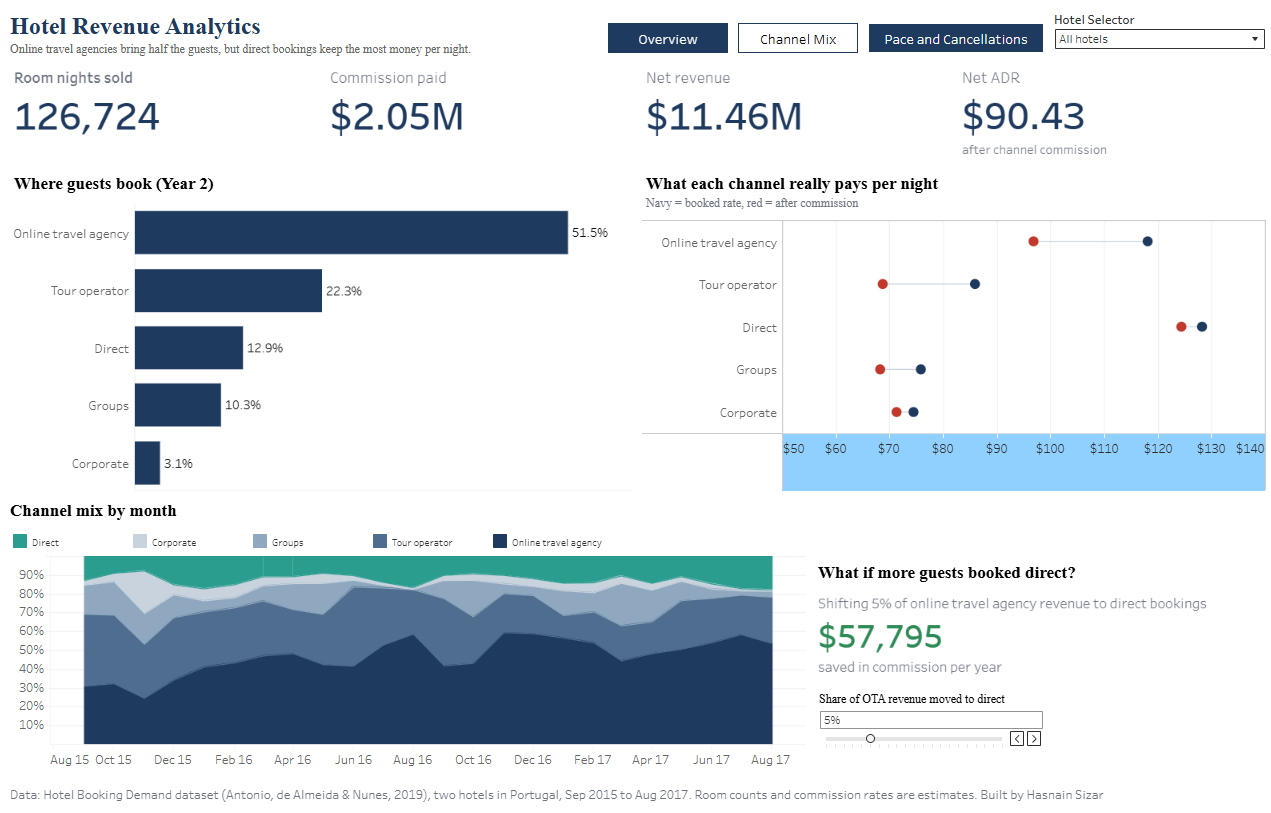

The page's visual inventory and layout, read from the dashboard file:
{"tool":"tableau","page":{"name":"Channel Mix","canvas":[1280,820],"ordinal":0},"visuals":[{"type":"text","box":[8,8,1044,56]},{"type":"parameter","param":"[Parameters].[Parameter 3123986986201088]","box":[1052,8,220,56]},{"type":"dashboard-object","box":[610,25,120,30]},{"type":"dashboard-object","box":[740,25,120,30]},{"type":"dashboard-object","box":[870,25,176,30]},{"type":"worksheet","title":"KPI Room Nights","mark":"Text","box":[8,64,316,101]},{"type":"worksheet","title":"KPI Commission","mark":"Text","box":[324,64,316,101]},{"type":"worksheet","title":"KPI Net Revenue","mark":"Text","box":[640,64,316,101]},{"type":"worksheet","title":"KPI Net ADR","mark":"Text","box":[956,64,316,101]},{"type":"worksheet","title":"Channel Share","mark":"Bar","rows":["channel"],"box":[8,165,632,332]},{"type":"worksheet","title":"Channel Dumbbell","mark":"Circle","rows":["channel"],"box":[640,165,632,332]},{"type":"text","box":[8,497,1264,32]},{"type":"legend","title":"Channel Mix Trend","param":"[federated.16153ny0octyns13lh07s16sx93c].[none:channel:nk]","box":[8,529,1264,25]},{"type":"worksheet","title":"Channel Mix Trend","mark":"Area","cols":["stay_date"],"box":[8,554,804,226]},{"type":"worksheet","title":"What If","mark":"Text","box":[812,554,460,226]},{"type":"parameter","param":"[Parameters].[Parameter 3123986999492645]","box":[821,693,225,97]},{"type":"text","box":[8,780,1264,32]}]}

Visuals, with their boxes in screenshot pixels (x1, y1, x2, y2), scaled from the page's 1280x820 canvas onto the 1271x813 screenshot:
text: (x1=8, y1=8, x2=1045, y2=63)
parameter: (x1=1045, y1=8, x2=1263, y2=63)
dashboard-object: (x1=606, y1=25, x2=725, y2=55)
dashboard-object: (x1=735, y1=25, x2=854, y2=55)
dashboard-object: (x1=864, y1=25, x2=1039, y2=55)
"KPI Room Nights" worksheet (Text marks): (x1=8, y1=63, x2=322, y2=164)
"KPI Commission" worksheet (Text marks): (x1=322, y1=63, x2=636, y2=164)
"KPI Net Revenue" worksheet (Text marks): (x1=636, y1=63, x2=949, y2=164)
"KPI Net ADR" worksheet (Text marks): (x1=949, y1=63, x2=1263, y2=164)
"Channel Share" worksheet (Bar marks): (x1=8, y1=164, x2=636, y2=493)
"Channel Dumbbell" worksheet (Circle marks): (x1=636, y1=164, x2=1263, y2=493)
text: (x1=8, y1=493, x2=1263, y2=524)
"Channel Mix Trend" legend: (x1=8, y1=524, x2=1263, y2=549)
"Channel Mix Trend" worksheet (Area marks): (x1=8, y1=549, x2=806, y2=773)
"What If" worksheet (Text marks): (x1=806, y1=549, x2=1263, y2=773)
parameter: (x1=815, y1=687, x2=1039, y2=783)
text: (x1=8, y1=773, x2=1263, y2=805)
